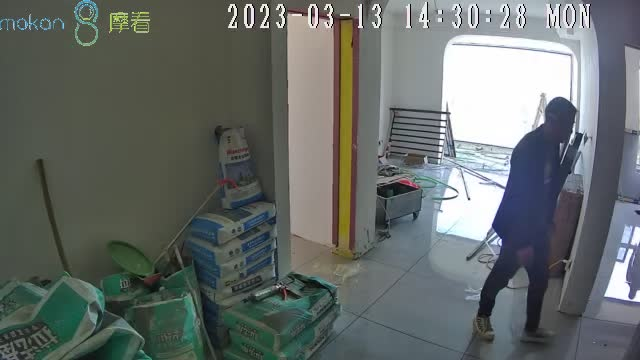people: (473, 96, 578, 342)
window: (442, 42, 575, 152)
